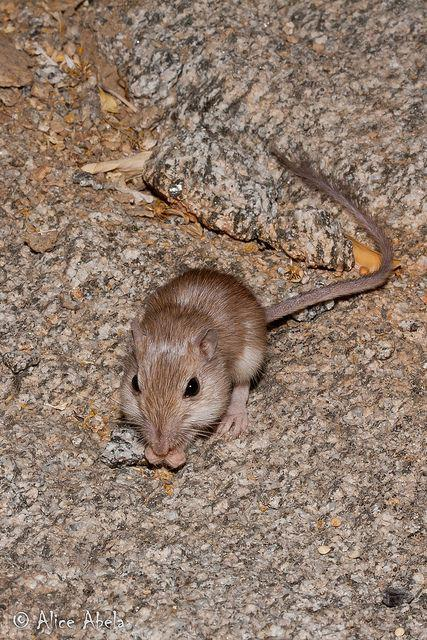rat: (126, 150, 394, 470)
